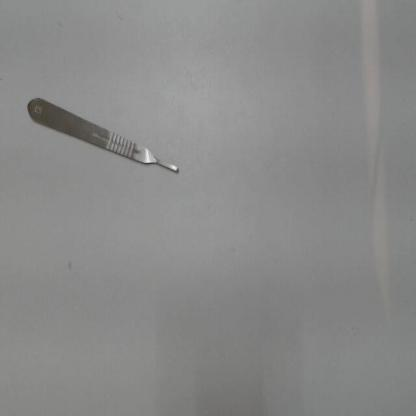No.3 BP Handle: (24, 81, 184, 189)
